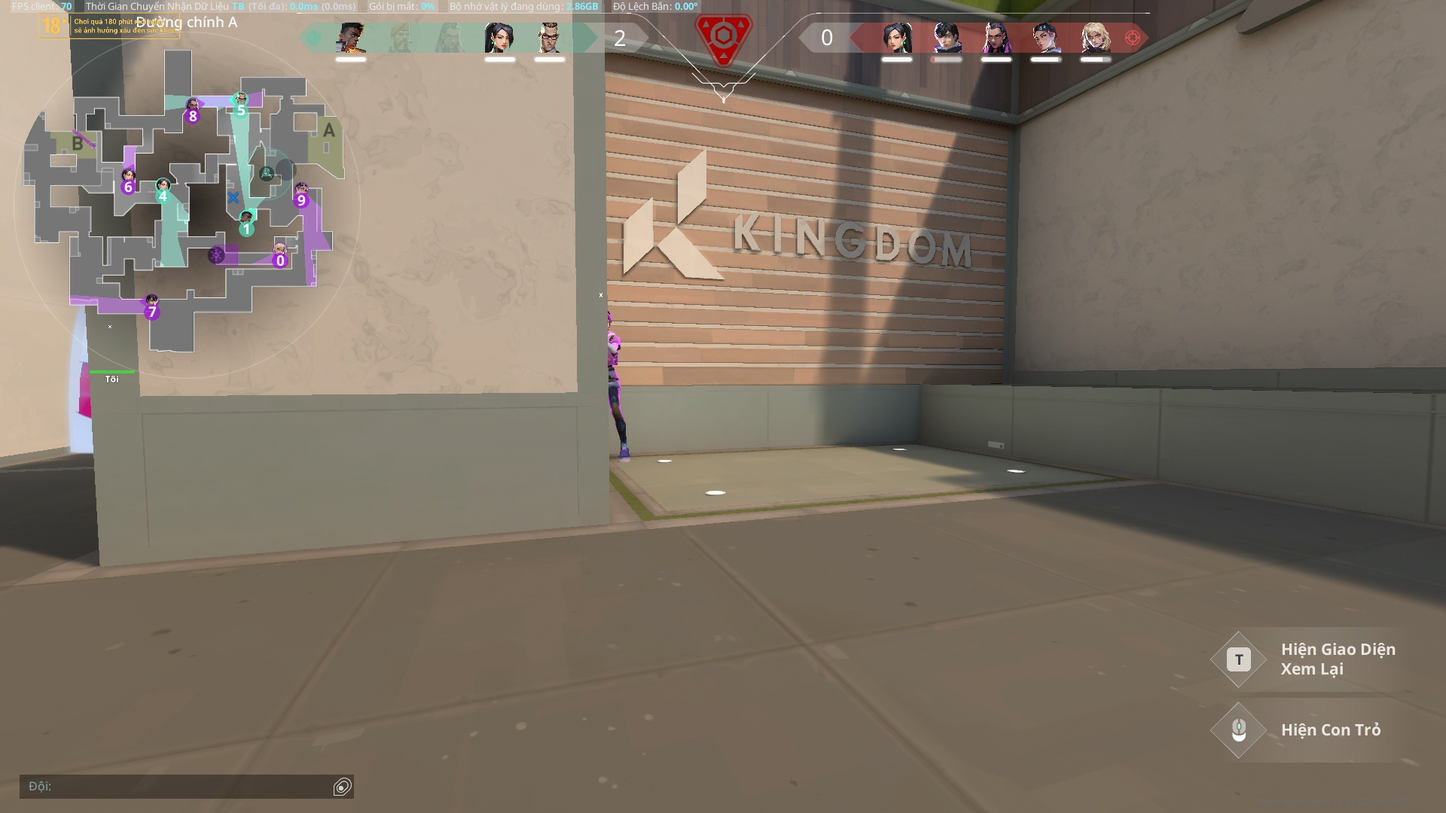body: (607, 331, 622, 369)
head: (607, 309, 613, 329)
